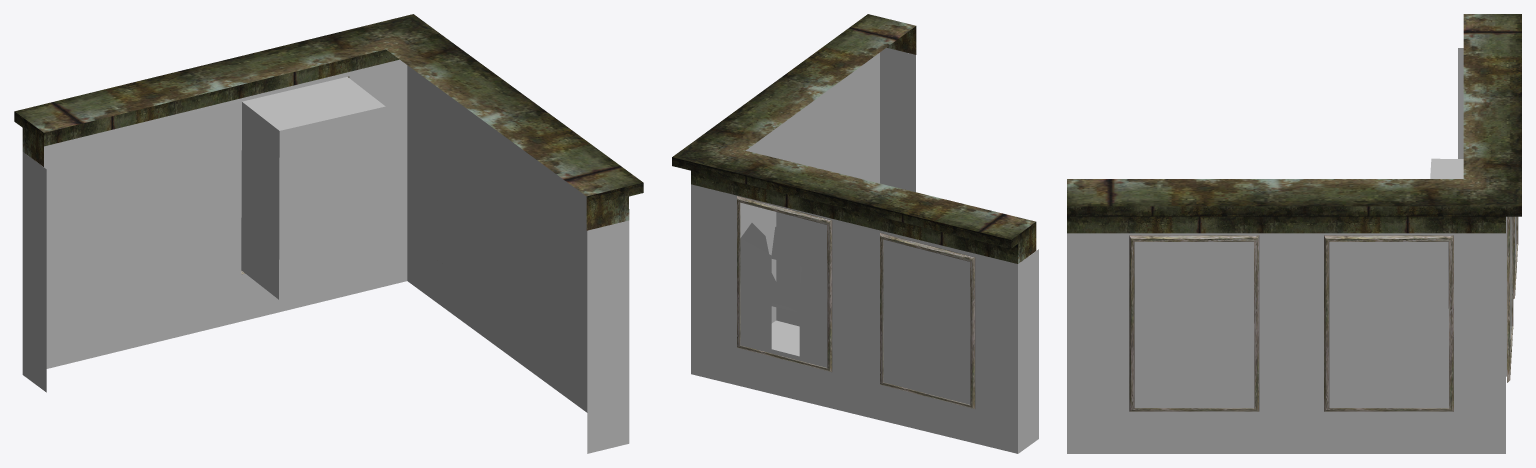
Rendered from Store_front_7_B.fbx.
The picture shows the model from 3 angles, left to right: view 1: azimuth 30°, elevation 25°; view 2: azimuth 150°, elevation 25°; view 3: azimuth 270°, elevation 25°; orthographic projection. The views are drawn at different scales.
Visible parts, largest first — view 1: Store_front_7_B; view 2: Store_front_7_B; view 3: Store_front_7_B.
Boxes of the visible parts, left/top/right/bottom form: Store_front_7_B: left=14, top=14, right=643, bottom=453; Store_front_7_B: left=672, top=14, right=1038, bottom=453; Store_front_7_B: left=1067, top=14, right=1521, bottom=453.
Bounding box in the file's own units: 702 × 433 × 701.
